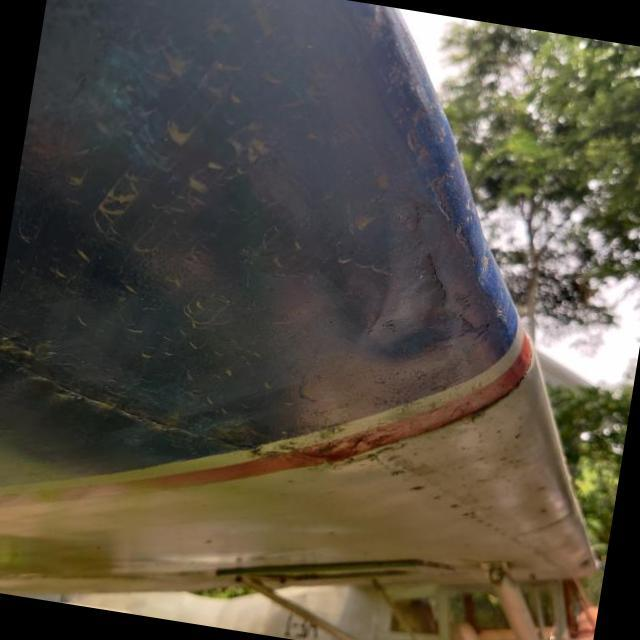Dent: (260, 154, 505, 420)
